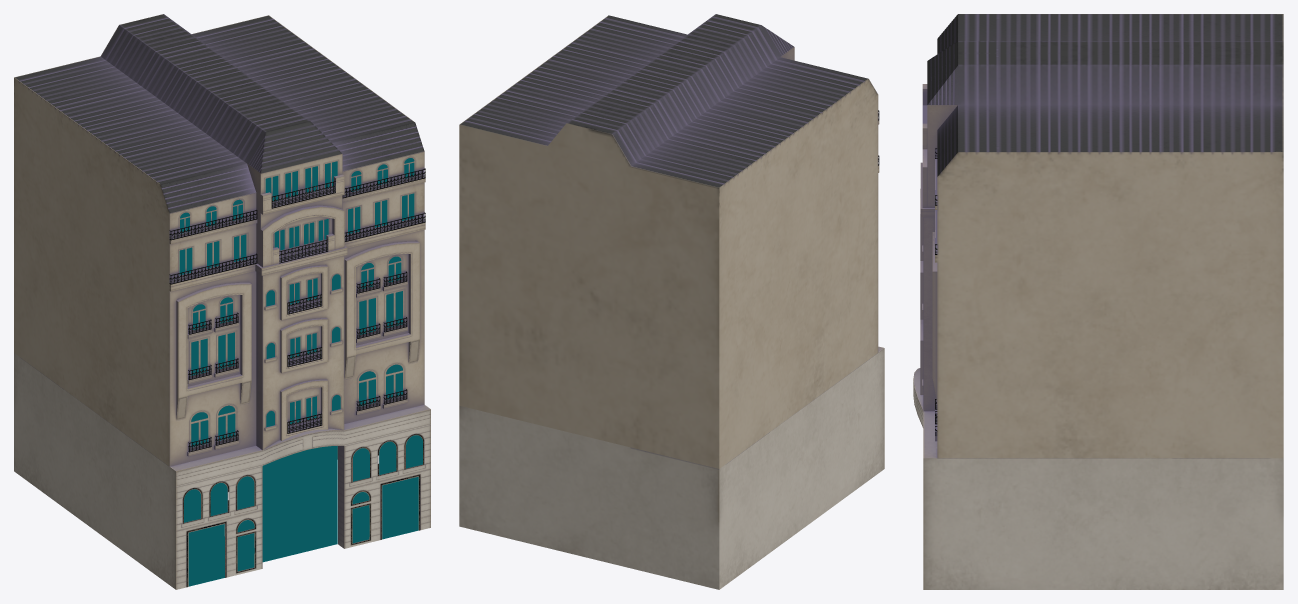
Rendered from BuildingMid02.fbx.
The picture shows the model from 3 angles, left to right: view 1: azimuth 30°, elevation 25°; view 2: azimuth 150°, elevation 25°; view 3: azimuth 270°, elevation 25°; orthographic projection. The views are drawn at different scales.
Parts seen in each view (by area): view 1: buildingMid02; view 2: buildingMid02; view 3: buildingMid02.
Boxes of the visible parts, x1,y1,x2,y2 form: buildingMid02: (14,14,430,589); buildingMid02: (459,14,884,589); buildingMid02: (913,14,1283,589).
Bounding box in the file's own units: 102 × 161 × 115.
Materials: 2 (1 with a texture image).
